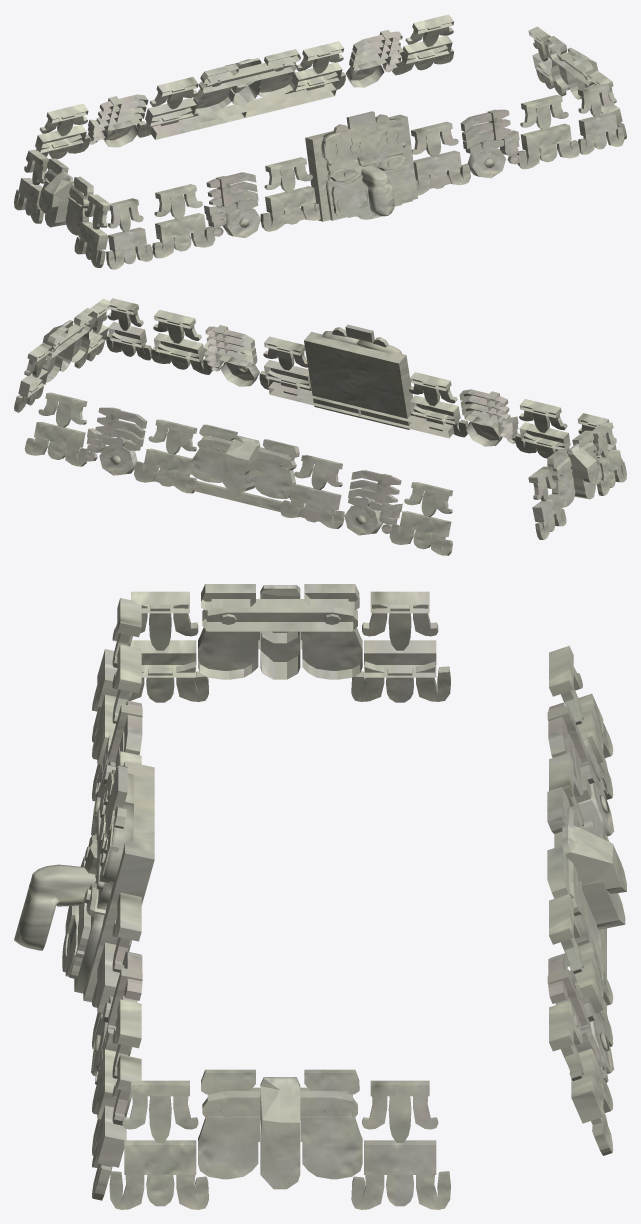
File: barracks_masks.dae
3 renders of one model, top to bottom at view 1: azimuth 30°, elevation 25°; view 2: azimuth 150°, elevation 25°; view 3: azimuth 270°, elevation 25°, orthographic. The views are drawn at different scales.
Parts seen in each view (by area): view 1: barracks_masks; view 2: barracks_masks; view 3: barracks_masks.
Part boxes in pixels (x1=…): barracks_masks: x1=14, y1=14, x2=626, y2=269; barracks_masks: x1=14, y1=298, x2=626, y2=555; barracks_masks: x1=14, y1=584, x2=626, y2=1209.
Size of the model in its own units: 15.85 by 7.7 by 2.58.
